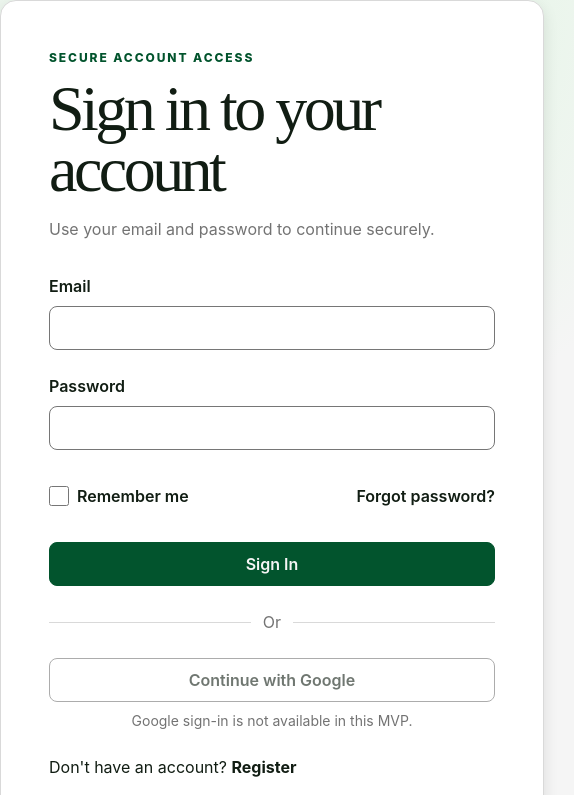
Test: AuthForm › renders the Figma login controls and exposes the remember choice to the action
Expected: the checkbox labelled "Remember me" is not checked, [49,486,69,506]
Expected: the button "Sign In" is enabled, [49,542,495,586]
Type "a@example.com" into the field labelled "Email" at (272, 328), box [49,306,495,350]
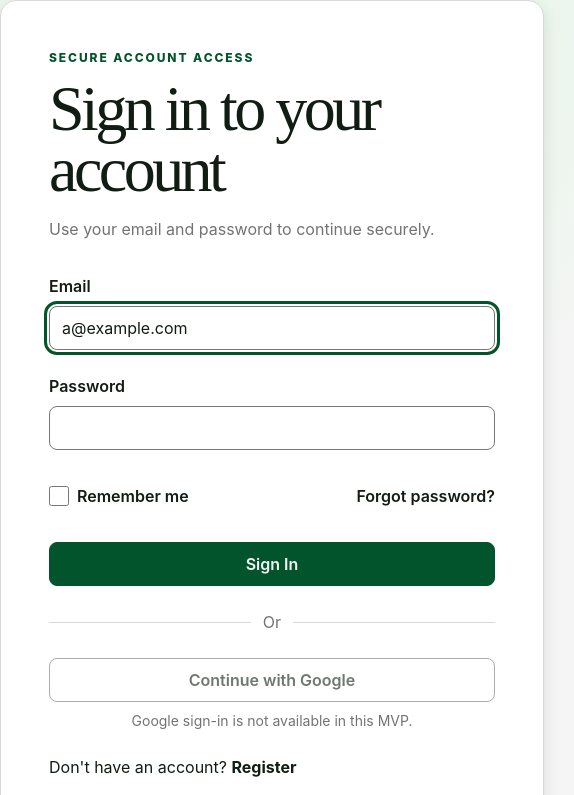
Type "password-value" into the password field labelled "Password" at (272, 428), box [49,406,495,450]
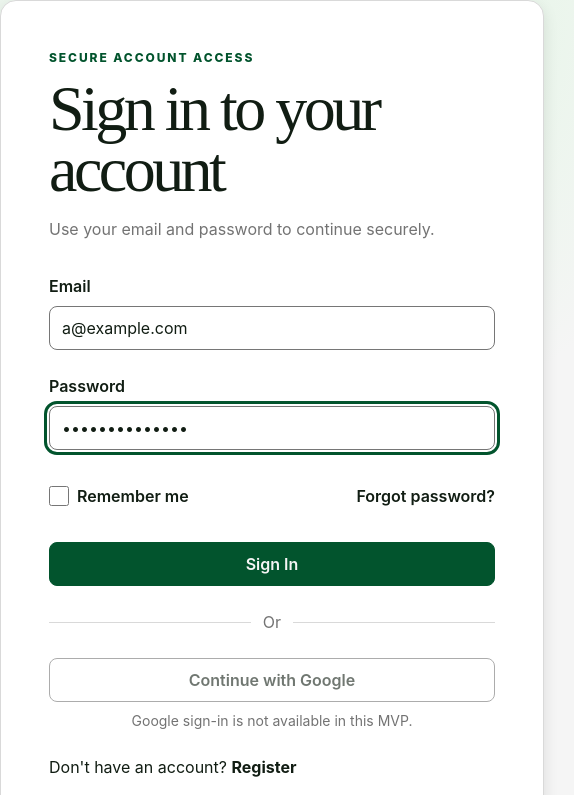
Click the checkbox labelled "Remember me" at (59, 496), box [49,486,69,506]
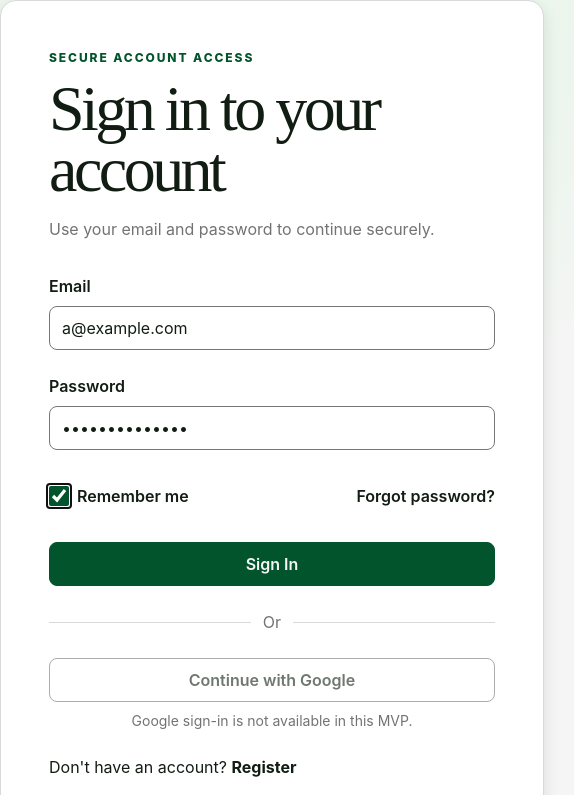
Click the button "Sign In" at (272, 564), box [49,542,495,586]
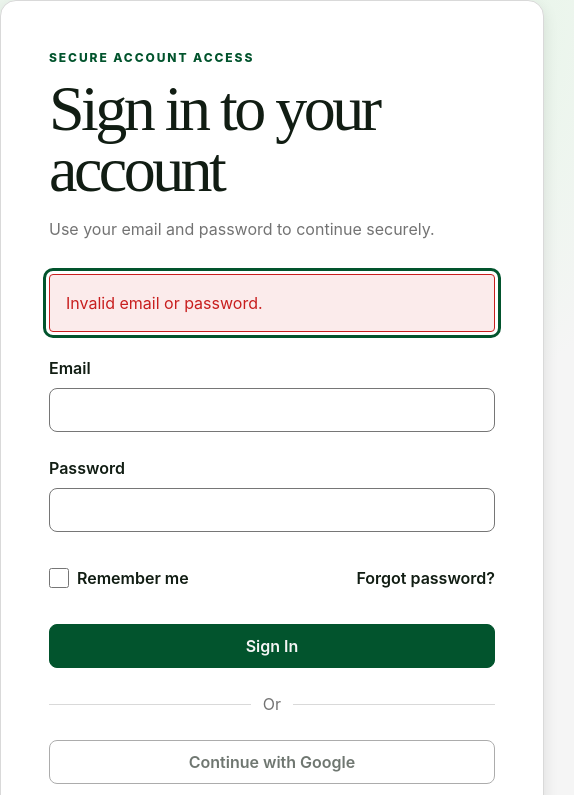
Expected: the message reads "Invalid email or password.", [66,293,262,313]
